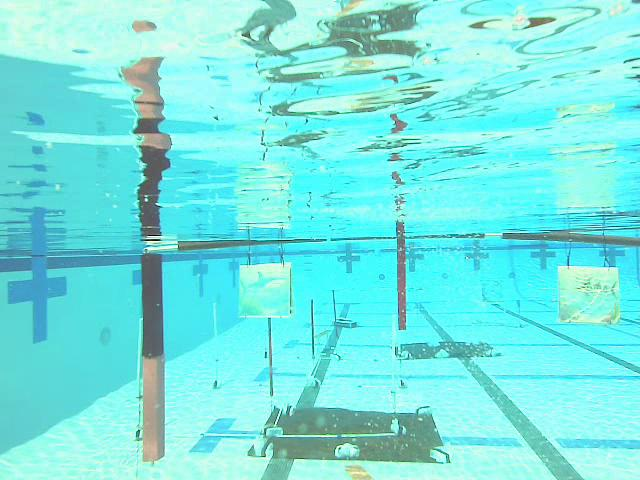black_poster: (310, 300, 316, 358), (332, 289, 339, 337)
divider: (396, 240, 409, 329)
left_gate_poster: (140, 257, 166, 459)
shark: (240, 265, 293, 315)
swordfish: (557, 267, 621, 324)
white_poster: (213, 304, 219, 388)
